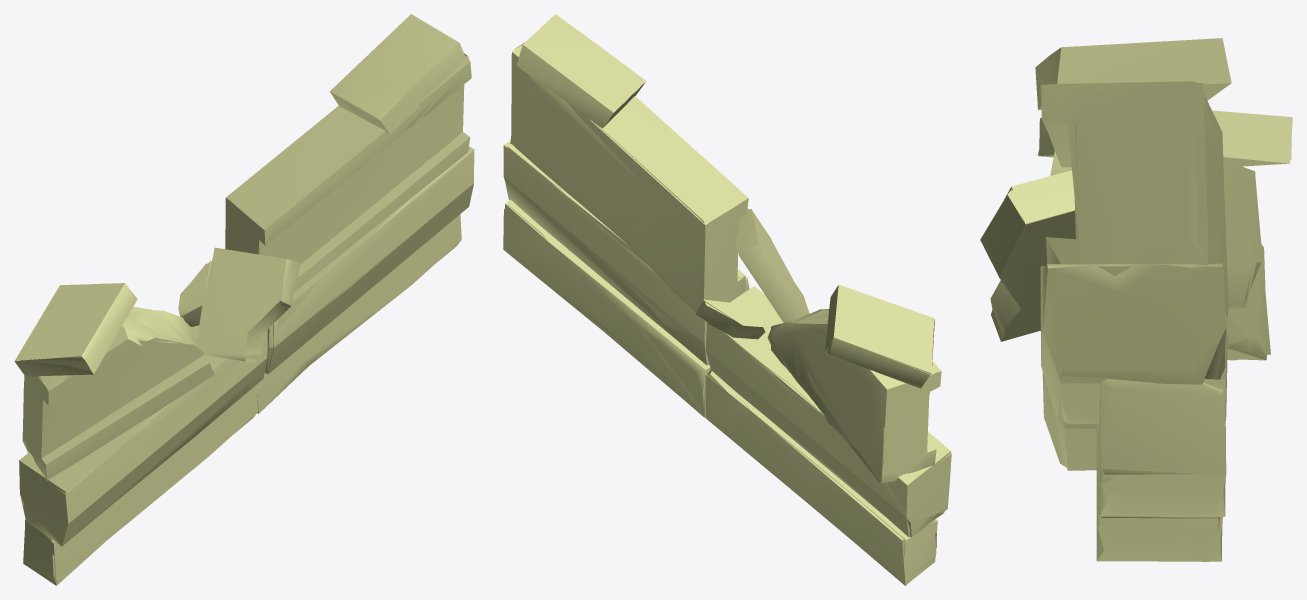
File: Bariere_Stairs_Damaged_Middle_2.fbx
3 views of the same model, side by side, from view 1: azimuth 30°, elevation 25°; view 2: azimuth 150°, elevation 25°; view 3: azimuth 270°, elevation 25° (orthographic). The views are drawn at different scales.
Parts seen in each view (by area): view 1: Bariere_Stairs_Damaged_Middle_2_LOD2, Bariere_Stairs_Damaged_Middle_2_LOD1; view 2: Bariere_Stairs_Damaged_Middle_2_LOD1, Bariere_Stairs_Damaged_Middle_2_LOD2; view 3: Bariere_Stairs_Damaged_Middle_2_LOD1, Bariere_Stairs_Damaged_Middle_2_LOD2.
Boxes of the visible parts, x1,y1,x2,y2 form: Bariere_Stairs_Damaged_Middle_2_LOD2: (14,25,473,585); Bariere_Stairs_Damaged_Middle_2_LOD1: (19,14,474,582); Bariere_Stairs_Damaged_Middle_2_LOD1: (503,16,951,585); Bariere_Stairs_Damaged_Middle_2_LOD2: (503,14,950,585); Bariere_Stairs_Damaged_Middle_2_LOD1: (980,38,1291,561); Bariere_Stairs_Damaged_Middle_2_LOD2: (991,38,1292,561).
Size of the model in its own units: 308 by 314 by 99.25.
